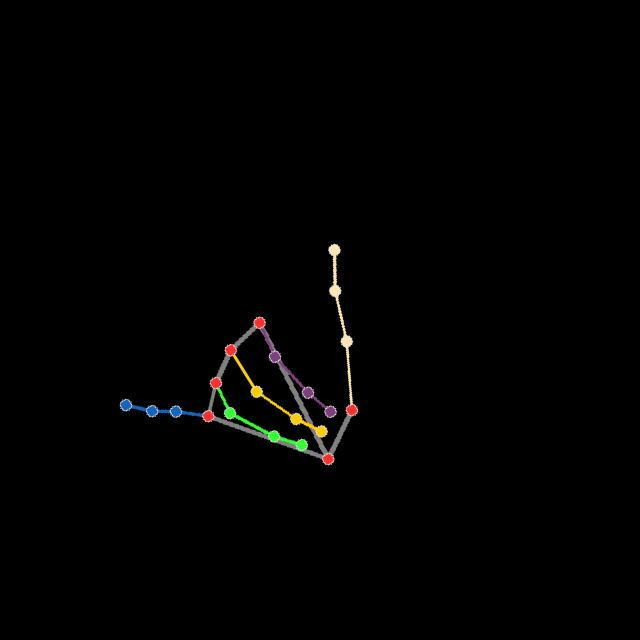skr: (117, 237, 362, 468)
